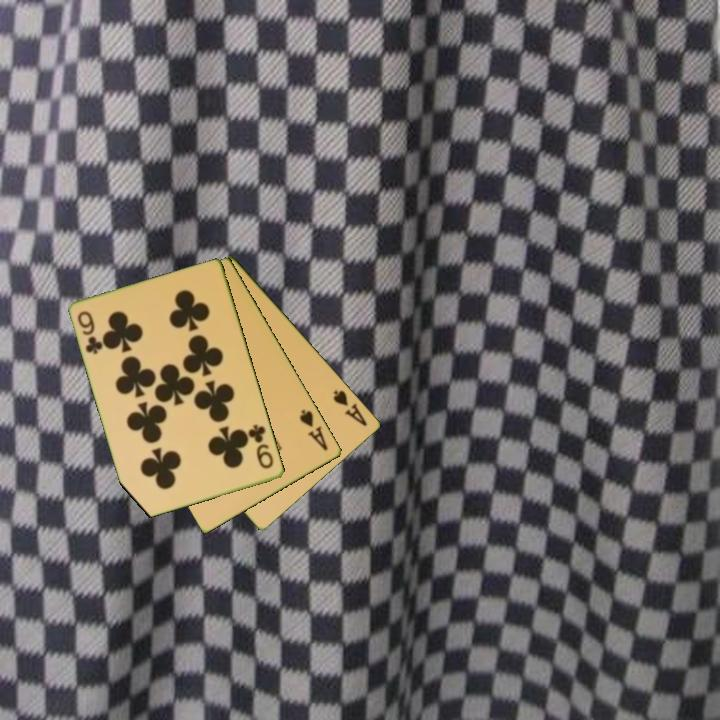9c: (245, 421, 277, 472), (74, 308, 106, 358)
As: (330, 386, 371, 429), (296, 406, 331, 454)
